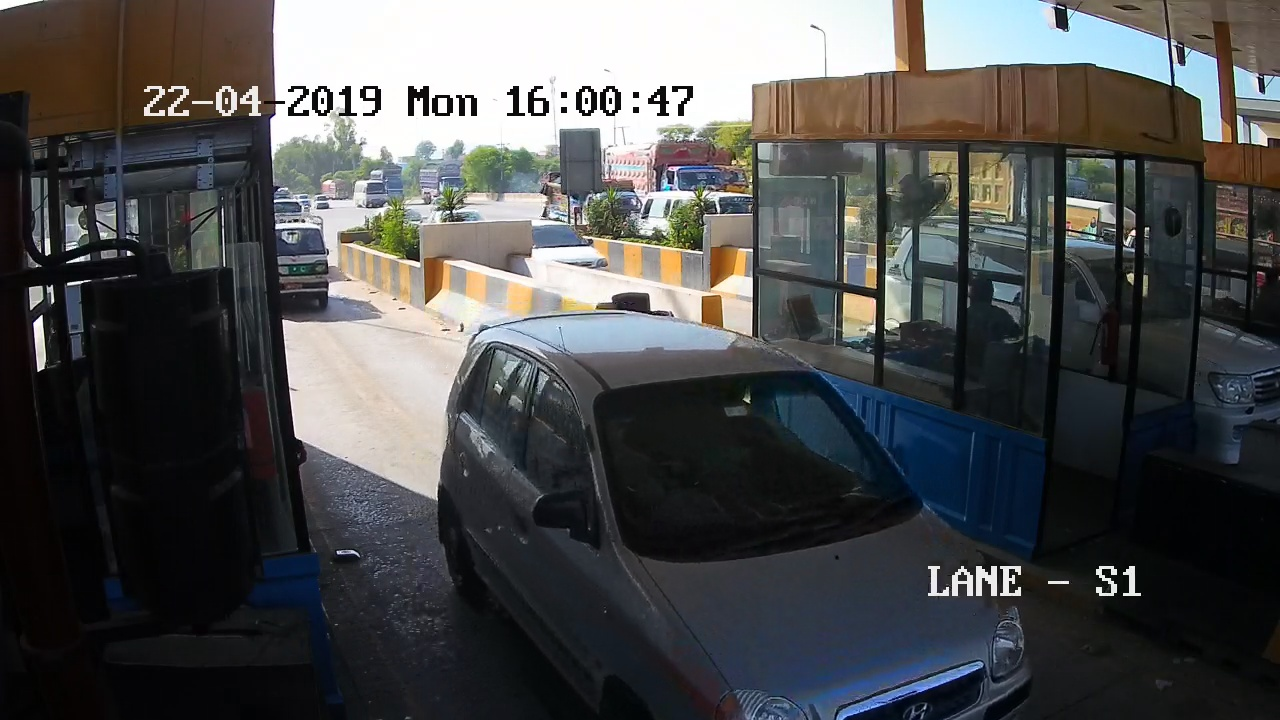car: (410, 322, 1046, 720)
